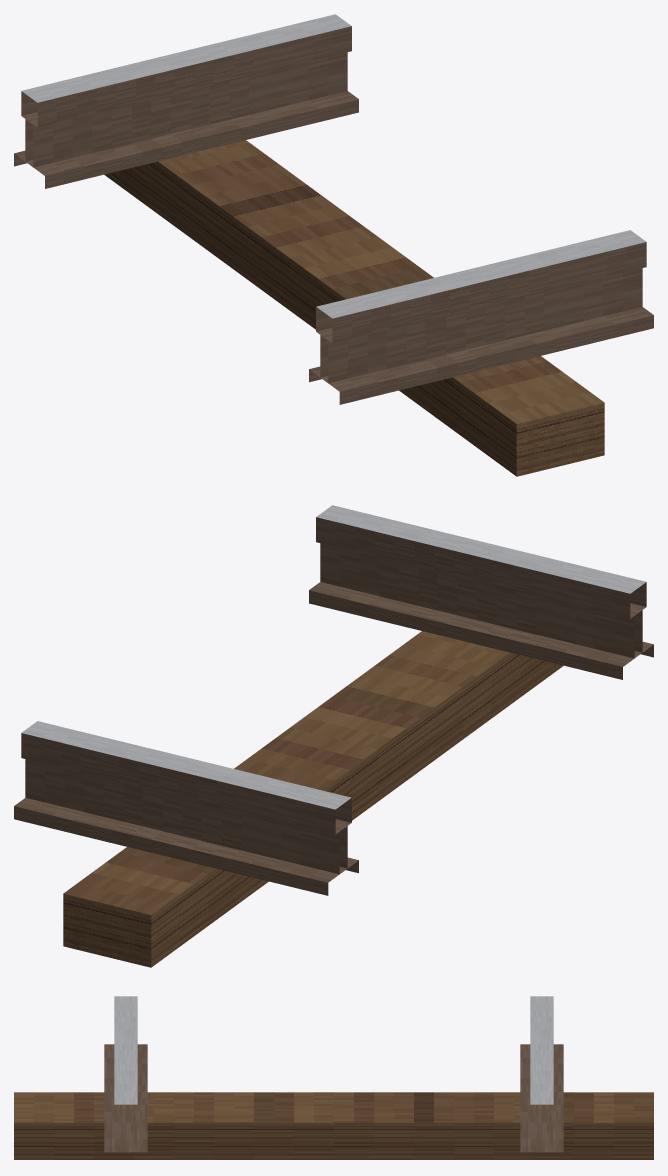
Rendered from standard.obj.
The picture shows the model from 3 angles, top to bottom: view 1: azimuth 30°, elevation 25°; view 2: azimuth 150°, elevation 25°; view 3: azimuth 270°, elevation 25°; orthographic projection. The views are drawn at different scales.
Parts seen in each view (by area): view 1: RAIL_BASE_standard, RAIL_LEFT_standard, RAIL_RIGHT_standard; view 2: RAIL_BASE_standard, RAIL_RIGHT_standard, RAIL_LEFT_standard; view 3: RAIL_BASE_standard, RAIL_LEFT_standard, RAIL_RIGHT_standard.
Boxes of the visible parts, <box> form: RAIL_BASE_standard: <box>104,140,604,476</box>; RAIL_LEFT_standard: <box>309,230,653,404</box>; RAIL_RIGHT_standard: <box>14,14,358,188</box>; RAIL_BASE_standard: <box>63,631,563,967</box>; RAIL_RIGHT_standard: <box>14,721,358,895</box>; RAIL_LEFT_standard: <box>309,505,653,679</box>; RAIL_BASE_standard: <box>14,1092,653,1159</box>; RAIL_LEFT_standard: <box>104,996,147,1152</box>; RAIL_RIGHT_standard: <box>520,996,563,1152</box>.
Bounding box in the file's own units: 1 × 0.4062 × 2.5.
1 material, 1 textured.
